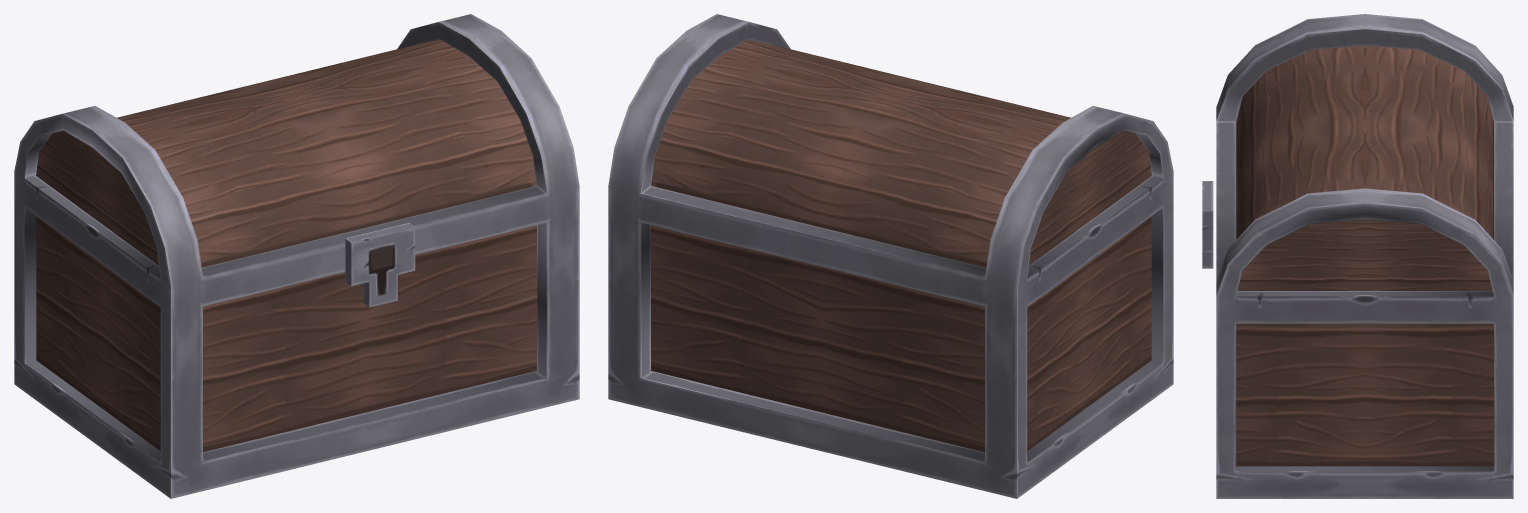
The model's file is Treasure_chest.FBX.
3 renders of one model, left to right at view 1: azimuth 30°, elevation 25°; view 2: azimuth 150°, elevation 25°; view 3: azimuth 270°, elevation 25°, orthographic. The views are drawn at different scales.
Visible parts, largest first — view 1: Object077; view 2: Object077; view 3: Object077.
Boxes of the visible parts, x1=… form: Object077: x1=14, y1=14, x2=579, y2=498; Object077: x1=608, y1=14, x2=1173, y2=498; Object077: x1=1202, y1=14, x2=1513, y2=498.
Size of the model in its own units: 129 by 93.92 by 89.74.
